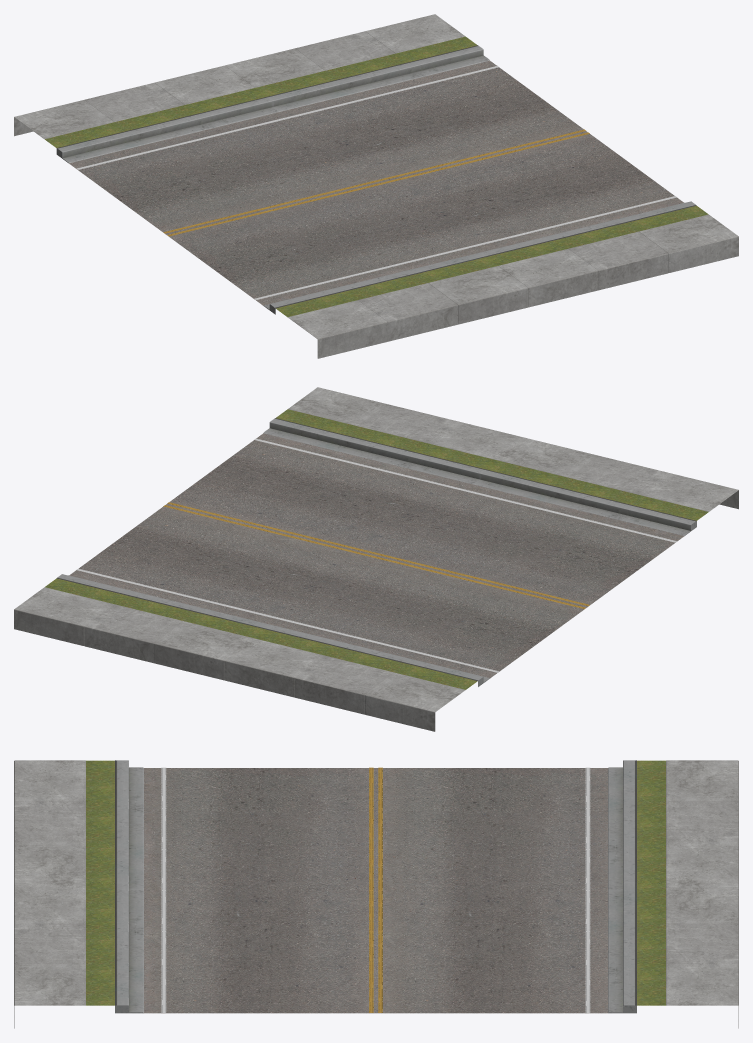
Rendered from Road_2L_VarD.fbx.
The picture shows the model from 3 angles, top to bottom: view 1: azimuth 30°, elevation 25°; view 2: azimuth 150°, elevation 25°; view 3: azimuth 270°, elevation 25°; orthographic projection. The views are drawn at different scales.
Parts seen in each view (by area): view 1: Road_2L_VarD_LOD0; view 2: Road_2L_VarD_LOD0; view 3: Road_2L_VarD_LOD0.
Part boxes in pixels (x1=…): Road_2L_VarD_LOD0: x1=14, y1=14, x2=738, y2=358; Road_2L_VarD_LOD0: x1=14, y1=387, x2=738, y2=731; Road_2L_VarD_LOD0: x1=14, y1=760, x2=738, y2=1028.
Size of what is drawn, in the model's own units: 1000 by 44.86 by 1250.
